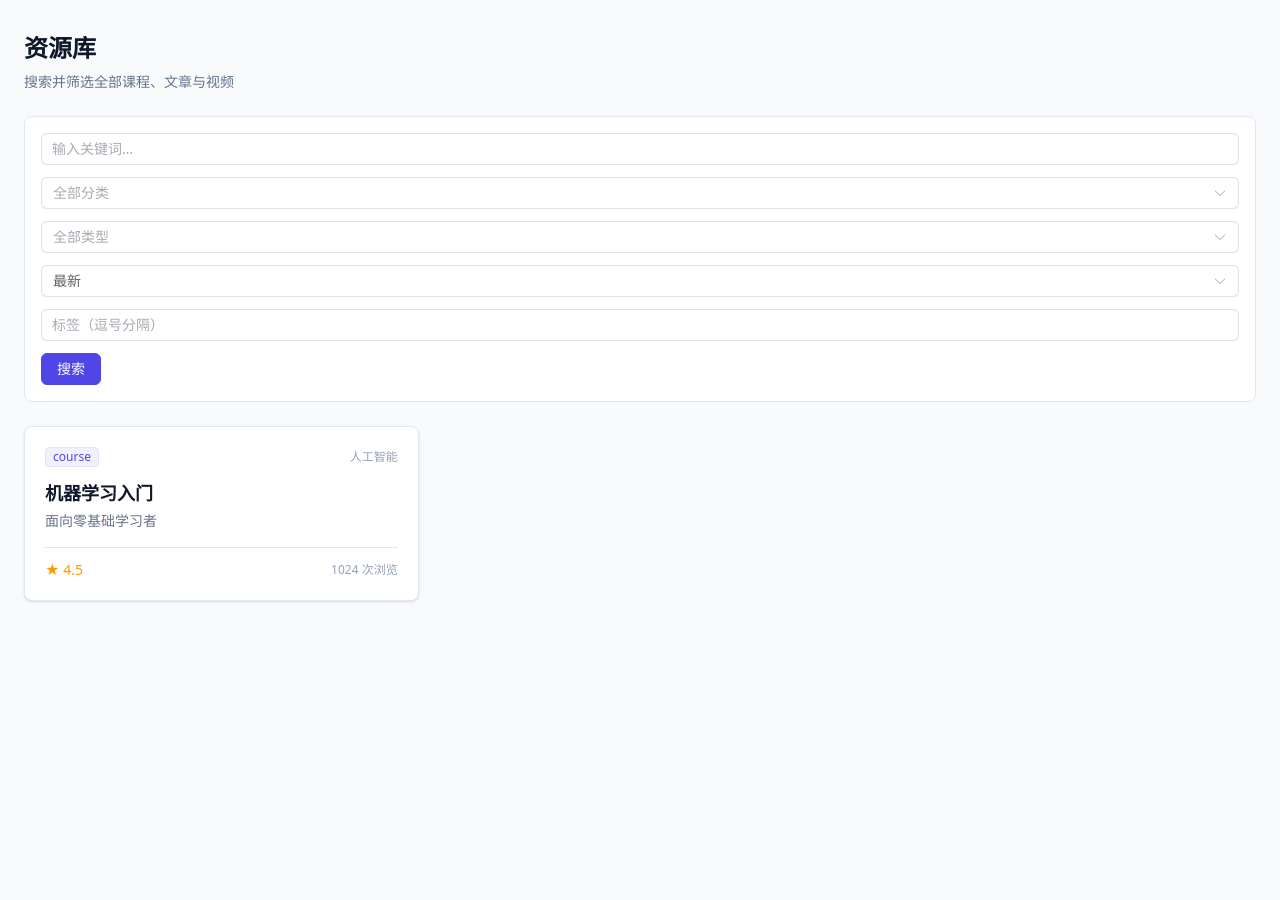
it: SearchPage › B 站无更多时停止拉取
In the field with placeholder "输入关键词…": (640, 149) [52,134,1228,164], type "机器学习"
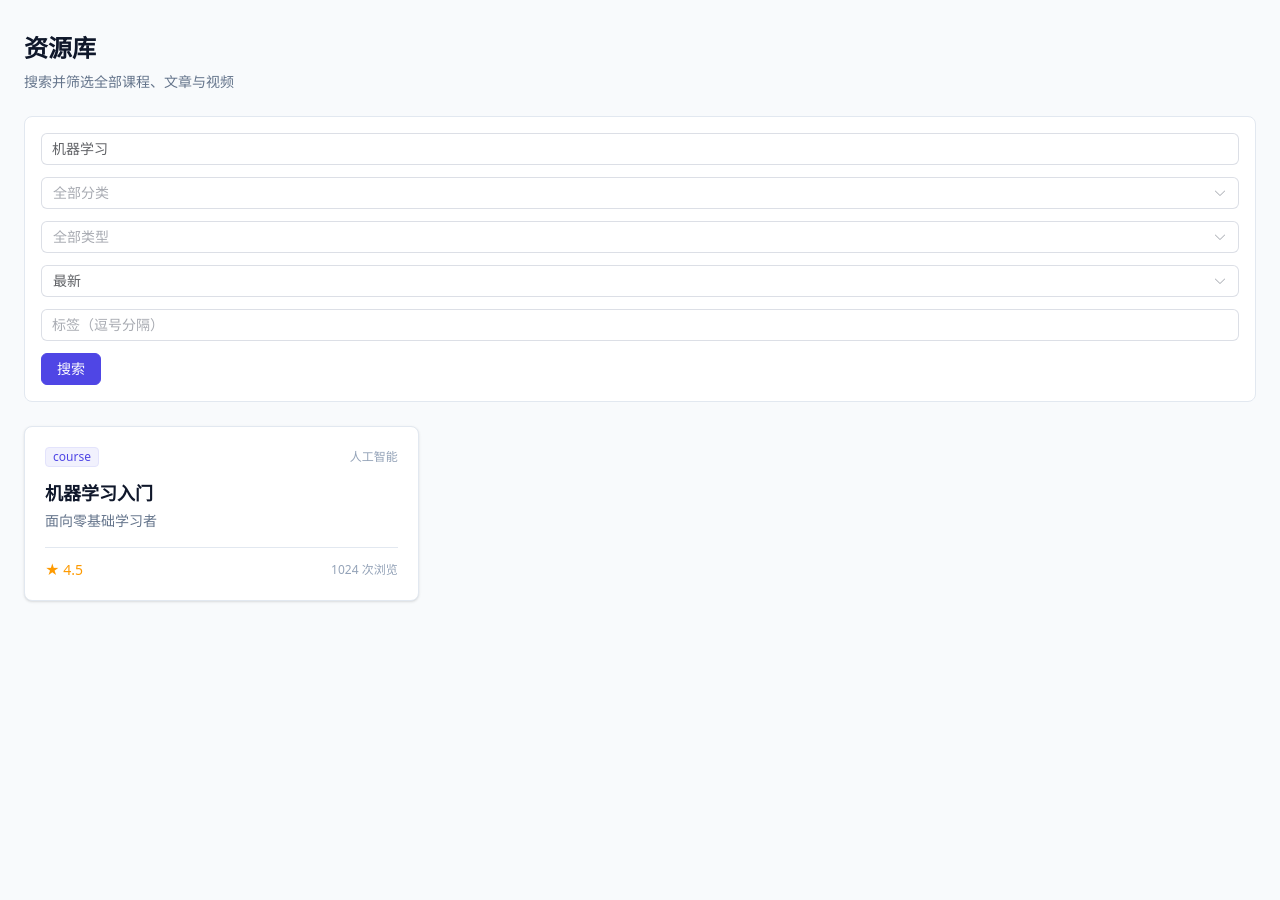
Press Enter in the field with placeholder "输入关键词…", box [52,134,1228,164]
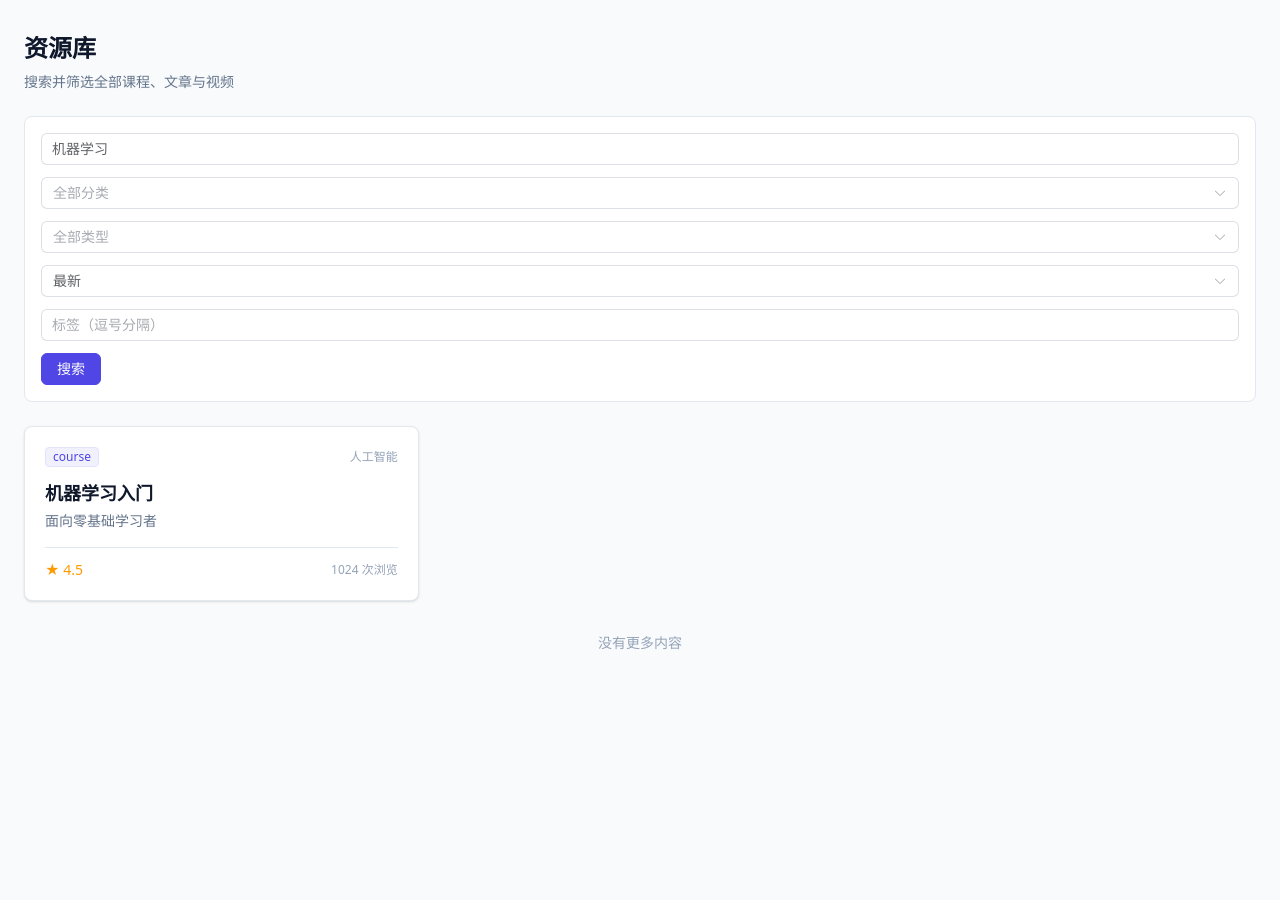
Now the text "没有更多内容" is shown, box [598,633,682,652]
